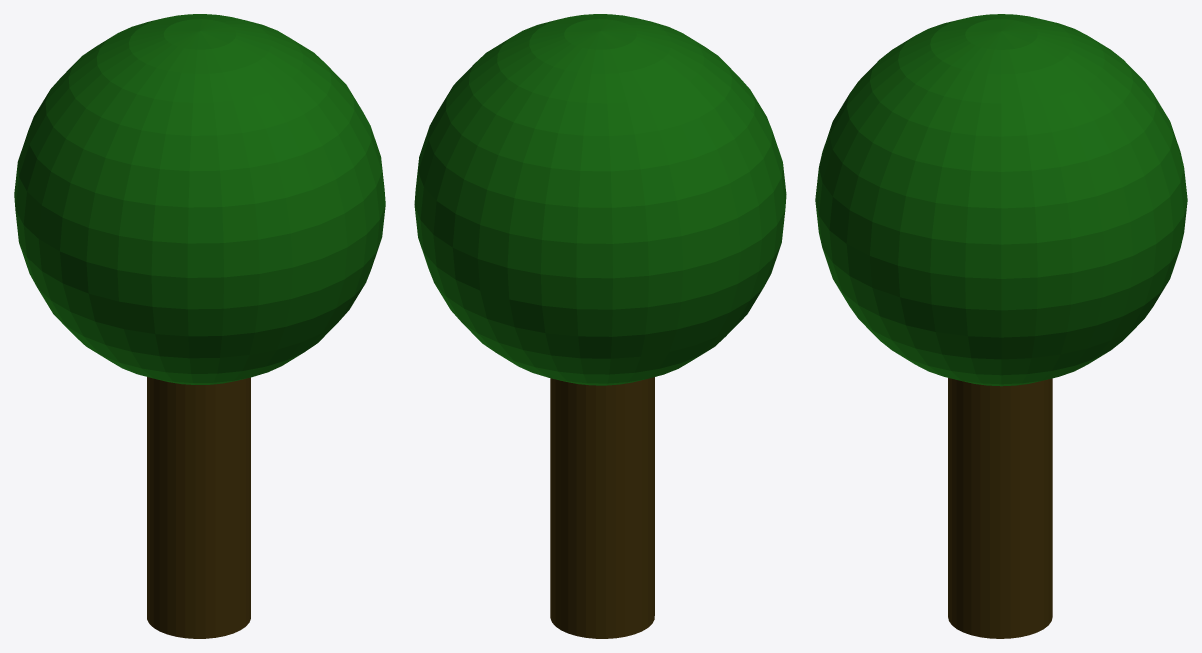
File: my_tree.glb
The picture shows the model from 3 angles, left to right: view 1: azimuth 30°, elevation 25°; view 2: azimuth 150°, elevation 25°; view 3: azimuth 270°, elevation 25°; orthographic projection.
Visible parts, largest first — view 1: Trunk; view 2: Trunk; view 3: Trunk.
Part boxes in pixels (x1=…): Trunk: x1=14, y1=14, x2=385, y2=638; Trunk: x1=414, y1=14, x2=786, y2=638; Trunk: x1=815, y1=14, x2=1187, y2=638.
Size of the model in its own units: 7.13 by 12.35 by 7.11.
